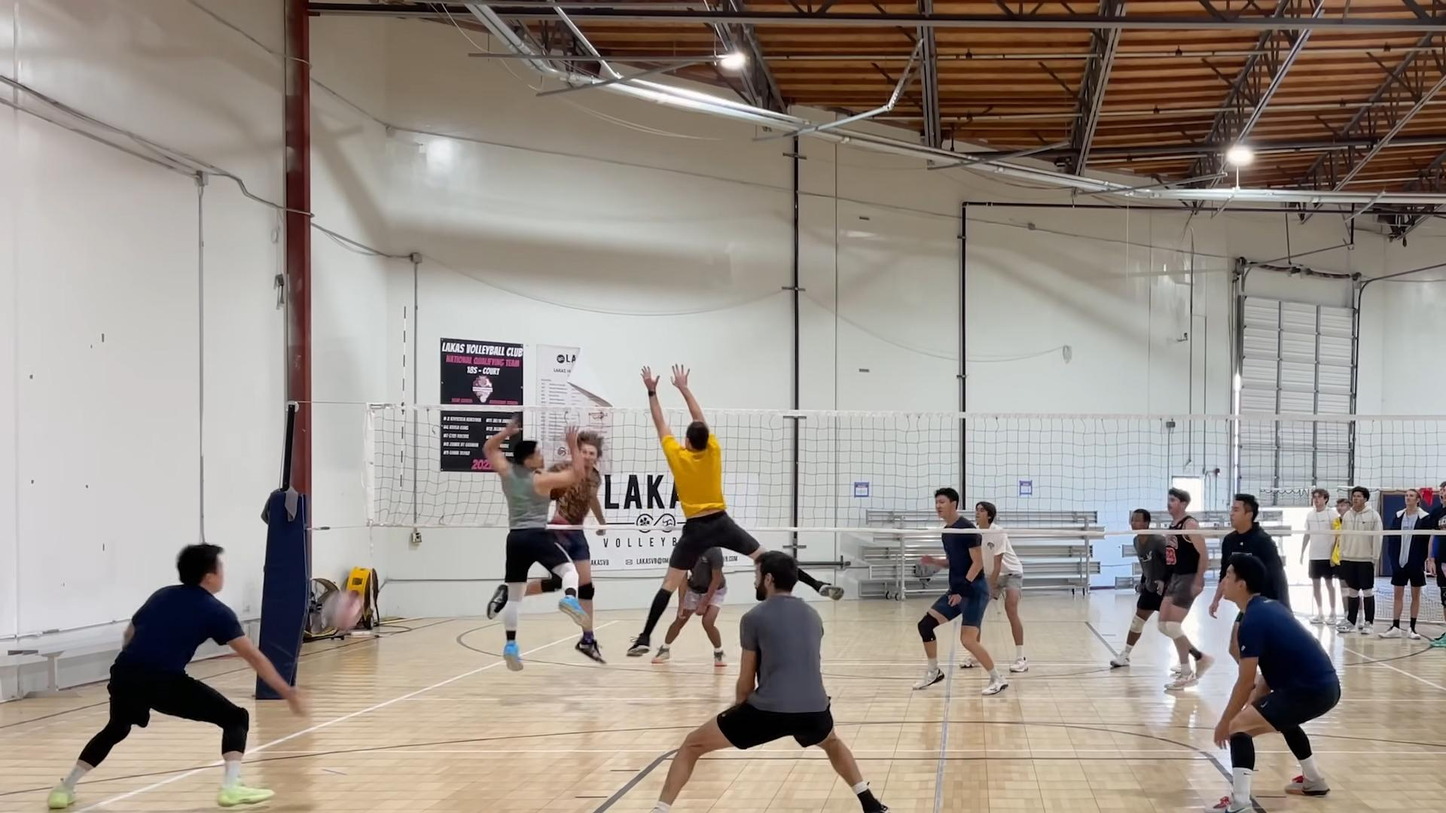Attack: (545, 416, 618, 671)
Block: (627, 364, 773, 661), (475, 411, 597, 676)
Player: (48, 544, 304, 808), (654, 551, 887, 812), (1213, 554, 1340, 812), (914, 531, 1008, 693), (1158, 488, 1213, 690), (1209, 494, 1289, 617), (1110, 510, 1168, 667), (975, 501, 1028, 672), (652, 548, 726, 666)
ball: (314, 589, 367, 633)
